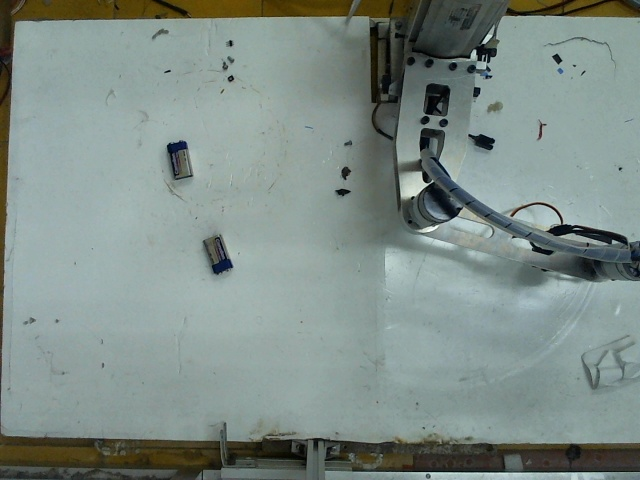battery: (198, 228, 236, 276), (166, 136, 194, 183)
